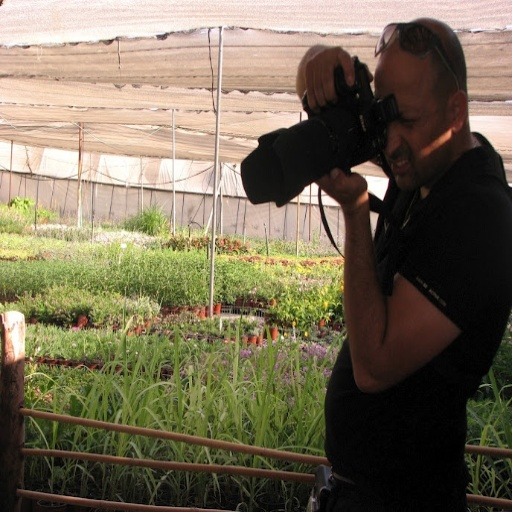hand: (304, 43, 372, 107), (313, 166, 366, 208)
